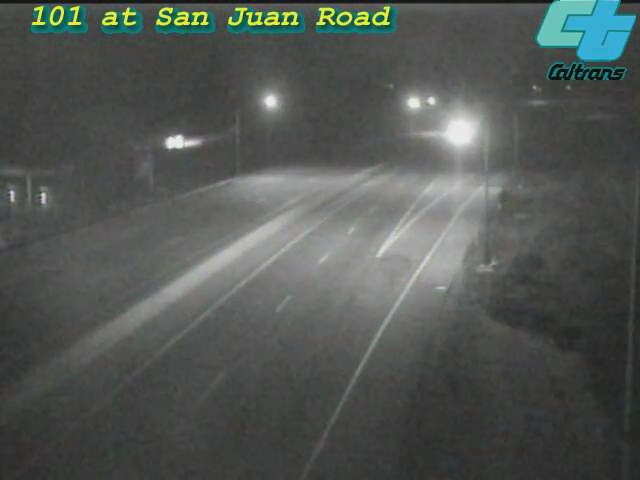vehicle: (433, 108, 483, 158)
